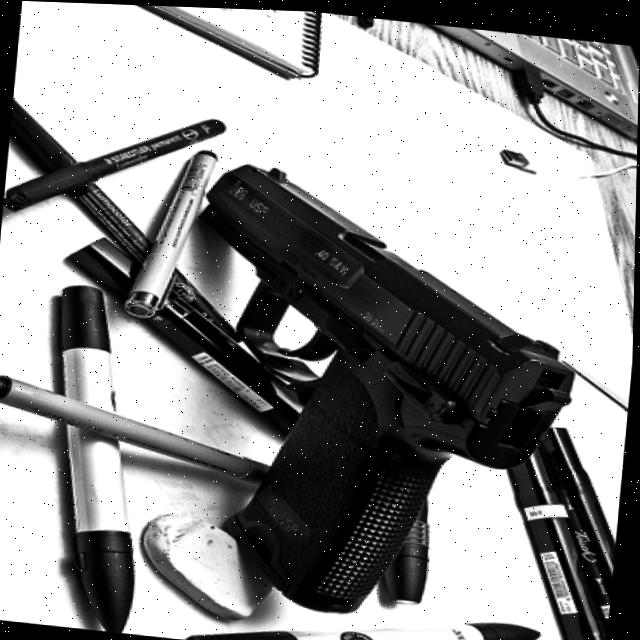pistol: (166, 154, 592, 632)
